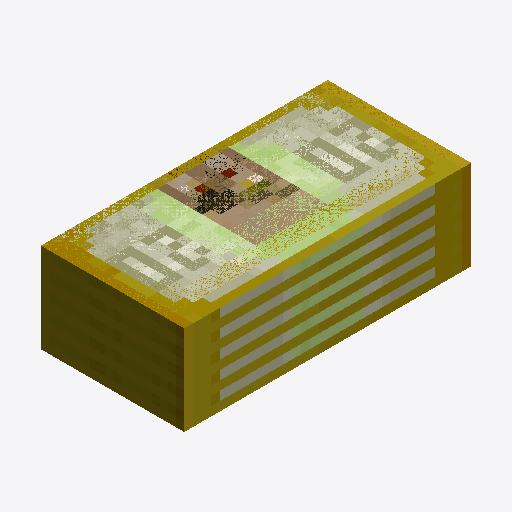
Isometric view (azimuth 45°, elevation 35.3°) of a Minecraft model made of 22 cuboids, textured from the same repository.
Parts seen in each view (by area): element 22, element 6, element 14, element 18, element 2, element 10, element 5, element 13, element 9, element 21, element 17.
Part boxes in pixels (left/top/right/bottom): element 22: left=41, top=80, right=470, bottom=327; element 6: left=184, top=225, right=470, bottom=410; element 14: left=184, top=184, right=470, bottom=369; element 18: left=184, top=163, right=470, bottom=348; element 2: left=184, top=246, right=470, bottom=431; element 10: left=184, top=205, right=470, bottom=389; element 5: left=41, top=329, right=183, bottom=431; element 13: left=41, top=287, right=183, bottom=389; element 9: left=41, top=308, right=183, bottom=410; element 21: left=41, top=246, right=183, bottom=348; element 17: left=41, top=267, right=183, bottom=368.
Size of the model in its own units: 16 by 5 by 8.